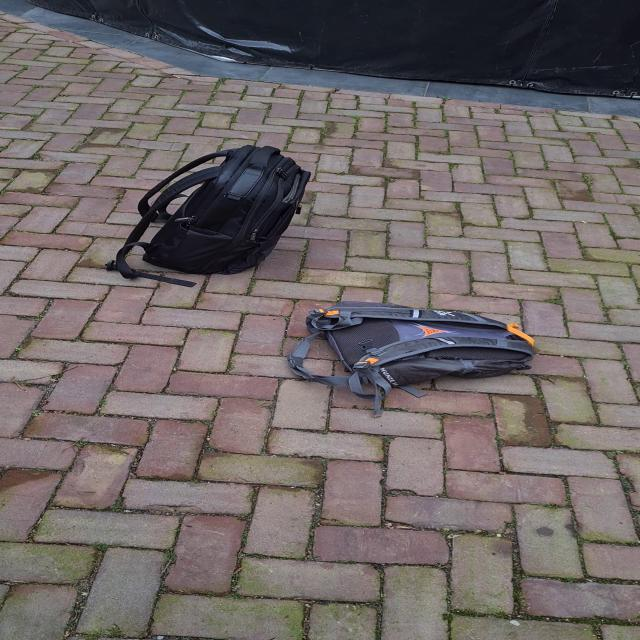backpack: (114, 142, 315, 288), (284, 305, 542, 399)
